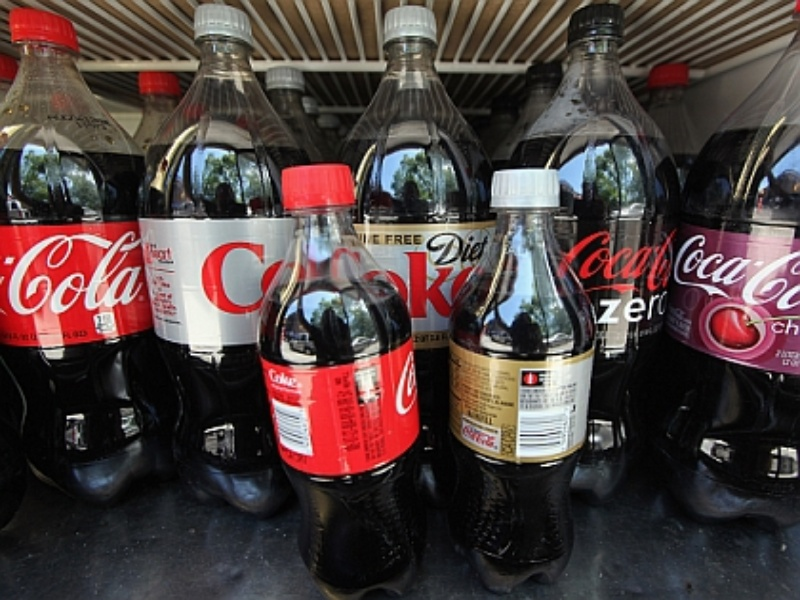Plastic bottle: (118, 12, 322, 525), (239, 143, 461, 600), (510, 10, 706, 525), (413, 129, 605, 600), (15, 18, 175, 556), (342, 9, 514, 412)
